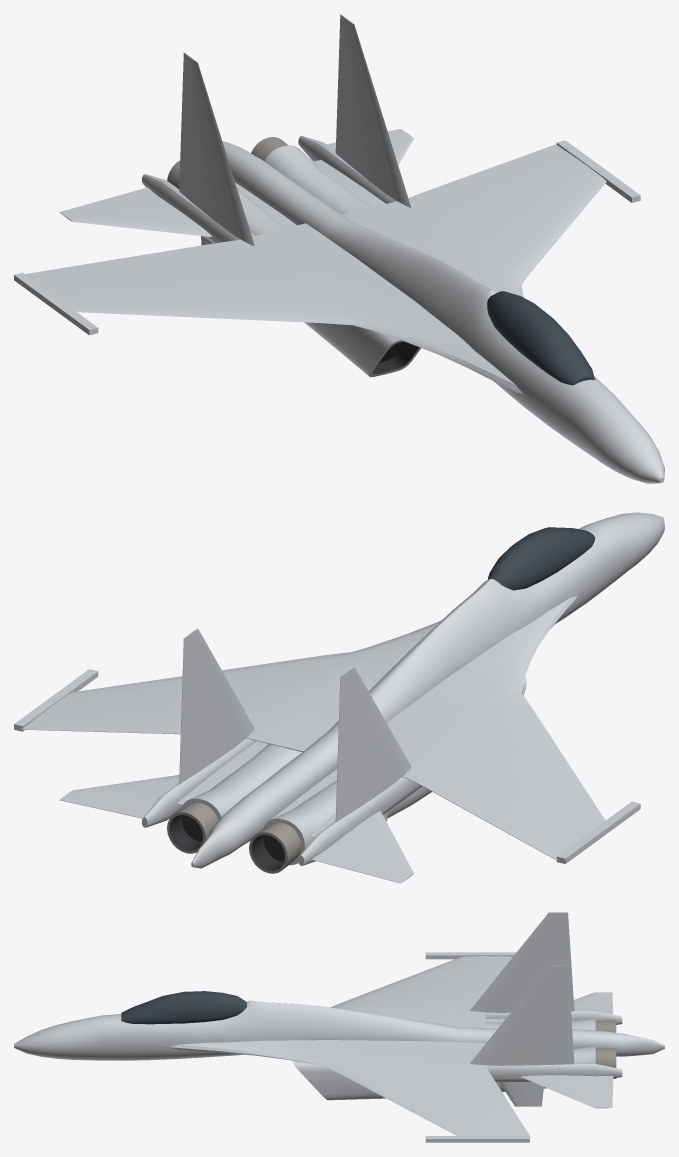
3 views of the same model, one above another, from view 1: azimuth 30°, elevation 25°; view 2: azimuth 150°, elevation 25°; view 3: azimuth 270°, elevation 25° (orthographic). The views are drawn at different scales.
Visible parts, largest first — view 1: Airframe; view 2: Airframe; view 3: Airframe.
Boxes of the visible parts, bbox=[...] form: Airframe: bbox=[14, 14, 664, 483]; Airframe: bbox=[14, 512, 664, 883]; Airframe: bbox=[14, 912, 664, 1142].
Size of the model in its own units: 14.8 by 5.22 by 21.83.
